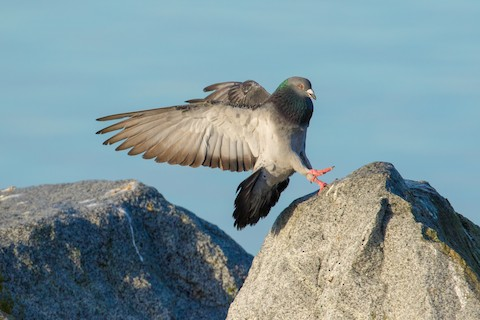pigeon: (95, 69, 348, 232)
